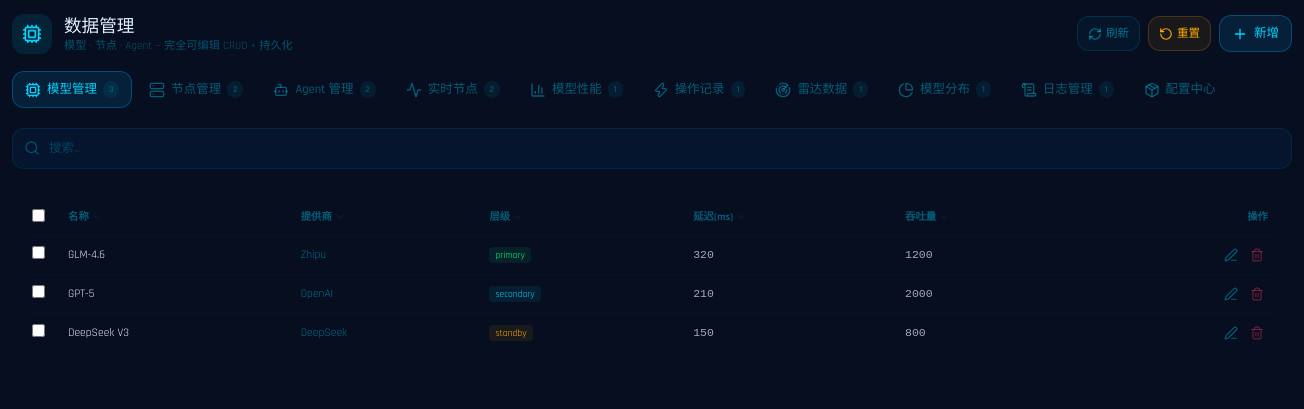
Scenario: DataEditorPanel 全链路 › 模型 tab: 勾选→批量删除→取消选择
The width and height of the screenshot is (1304, 409).
Later steps or results of the test are not shown.
Expected: the text "GLM-4.6" is shown, [68,247,105,262]
// 勾选第一行 checkbox
Click the checkbox next to "GLM-4.6".
click(38, 252)  # box [32,246,45,259]
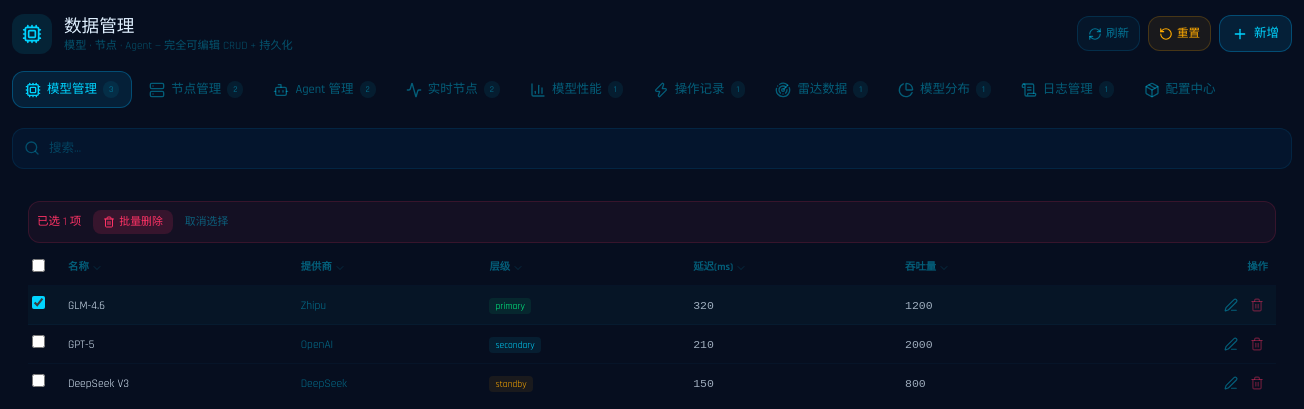
Now the text "已选 1 项" is shown, box [37,213,81,230]
